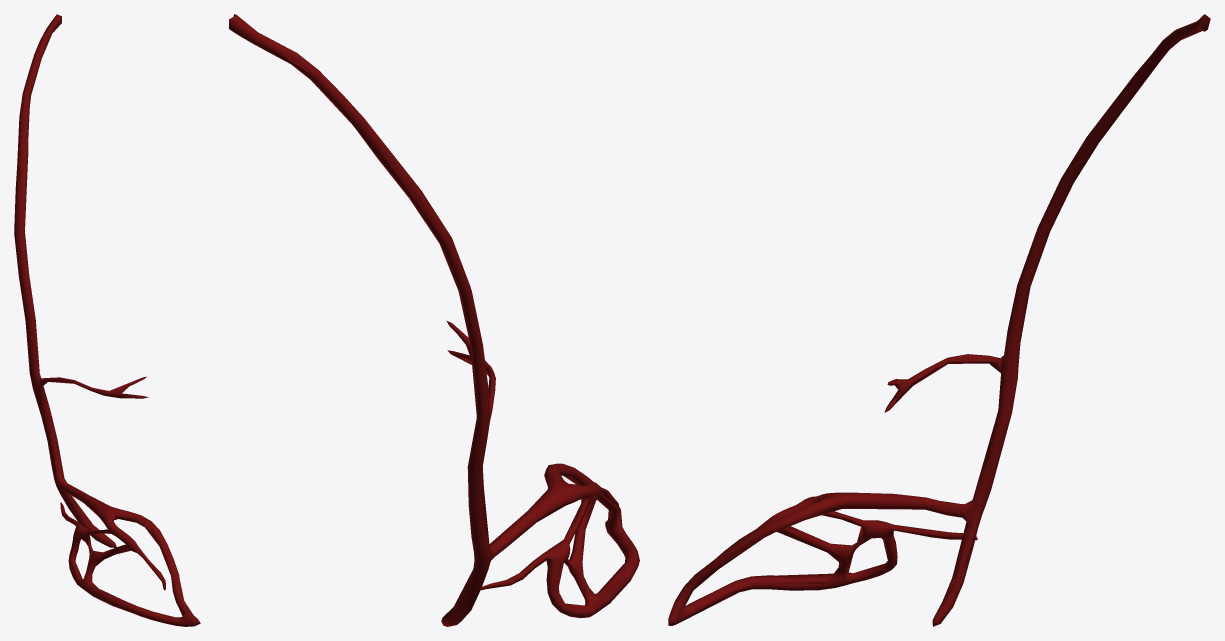
Rendered from LB digitales medialis.fbx.
The picture shows the model from 3 angles, left to right: view 1: azimuth 30°, elevation 25°; view 2: azimuth 150°, elevation 25°; view 3: azimuth 270°, elevation 25°; orthographic projection. The views are drawn at different scales.
Parts seen in each view (by area): view 1: LB digitales medialis, LB digitales medialis low; view 2: LB digitales medialis, LB digitales medialis low; view 3: LB digitales medialis, LB digitales medialis low.
Boxes of the visible parts, x1,y1,x2,y2 form: LB digitales medialis: [14, 14, 200, 626]; LB digitales medialis low: [16, 15, 187, 623]; LB digitales medialis: [229, 15, 639, 626]; LB digitales medialis low: [230, 14, 637, 625]; LB digitales medialis: [668, 14, 1210, 626]; LB digitales medialis low: [672, 14, 1210, 624].
Size of the model in its own units: 2.58 by 10.41 by 7.89.
